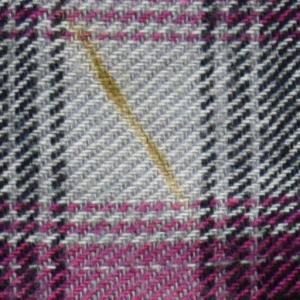Oil Stain: (68, 22, 185, 201)
